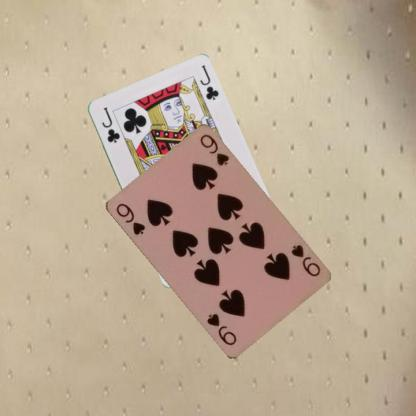9s: (112, 200, 147, 236), (288, 241, 322, 278)
Jc: (98, 104, 122, 144)
